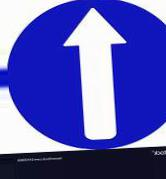forward: (6, 1, 166, 149)
